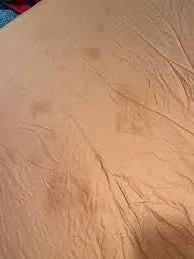oil: (50, 163, 89, 214), (110, 86, 138, 138), (22, 97, 48, 120), (82, 46, 101, 62), (96, 23, 104, 36)
